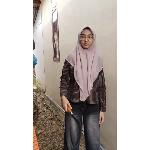Celurit: (62, 102, 86, 150)
